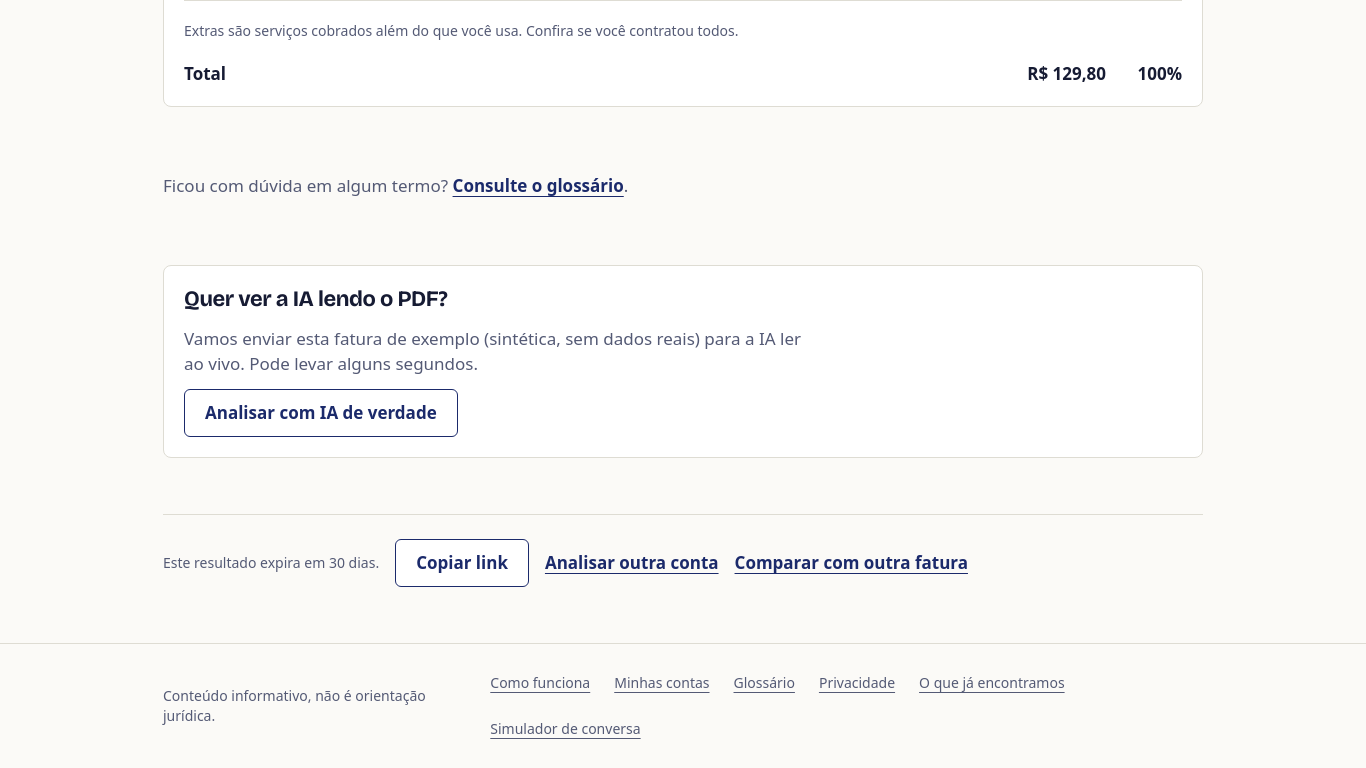
Scenario: RF01: extração ao vivo do exemplo › mostra a mensagem do back e a sugestão de seguir com o exemplo
The width and height of the screenshot is (1366, 768).
(page scrolled)
Click the button "Analisar com IA de verdade" at (321, 412), box left=184, top=388, right=458, bottom=436
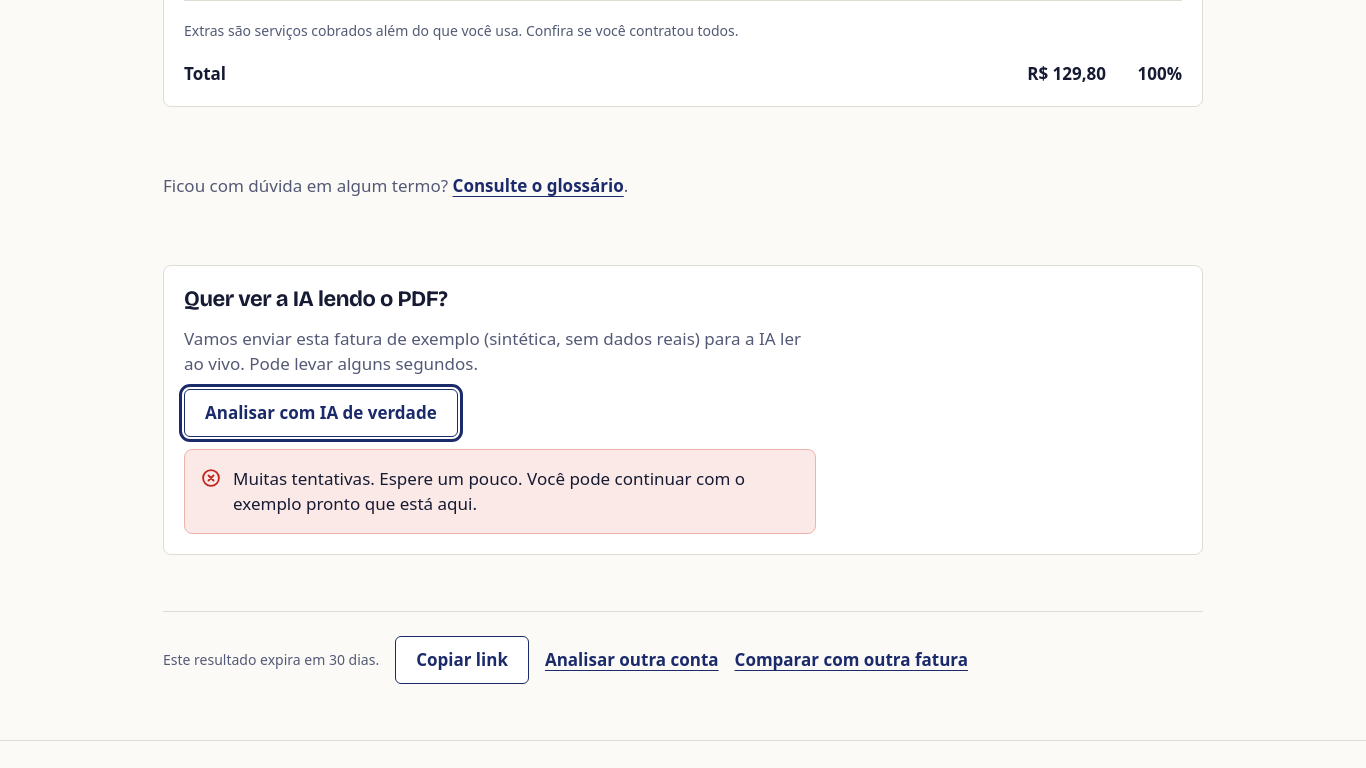
Check: the message shows "Muitas tentativas. Espere um pouco. Você pode continuar com o exemplo", box left=184, top=448, right=816, bottom=534
